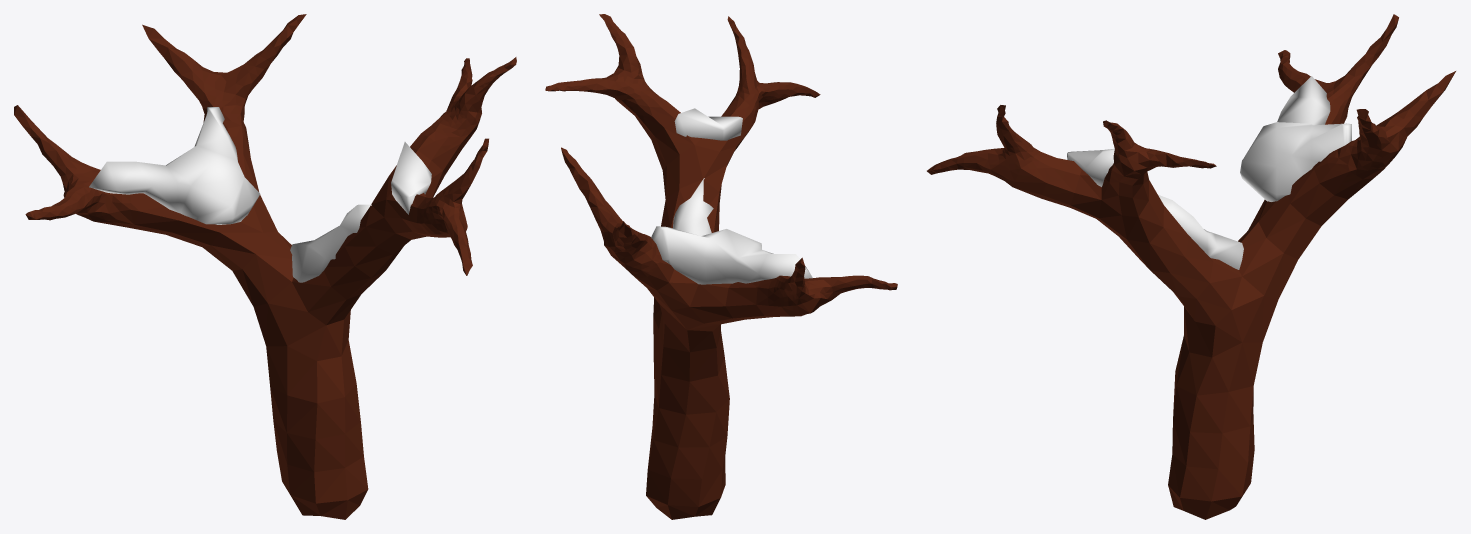
The model's file is TreeWinter.glb.
The picture shows the model from 3 angles, left to right: view 1: azimuth 30°, elevation 25°; view 2: azimuth 150°, elevation 25°; view 3: azimuth 270°, elevation 25°; orthographic projection. The views are drawn at different scales.
Parts seen in each view (by area): view 1: Trunk.001, Mball.004; view 2: Trunk.001, Mball.004; view 3: Trunk.001, Mball.004.
Boxes of the visible parts, x1,y1,x2,y2 form: Trunk.001: [14, 14, 516, 519]; Mball.004: [89, 107, 431, 282]; Trunk.001: [545, 14, 897, 519]; Mball.004: [651, 108, 812, 284]; Trunk.001: [927, 14, 1455, 519]; Mball.004: [1067, 76, 1351, 269].
Size of the model in its own units: 5.4 by 5.83 by 6.1.
